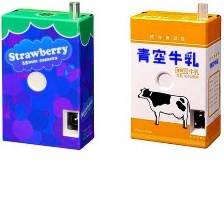carton: (0, 5, 105, 155), (126, 3, 224, 154)
